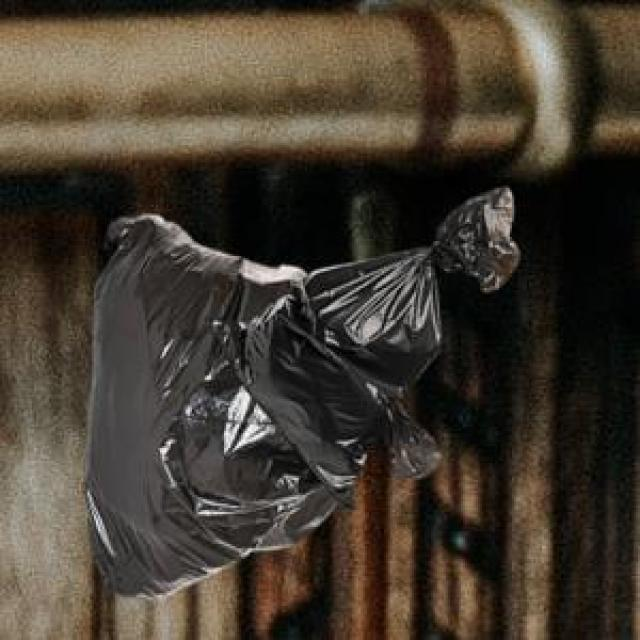Vinyl: (90, 188, 518, 594)
